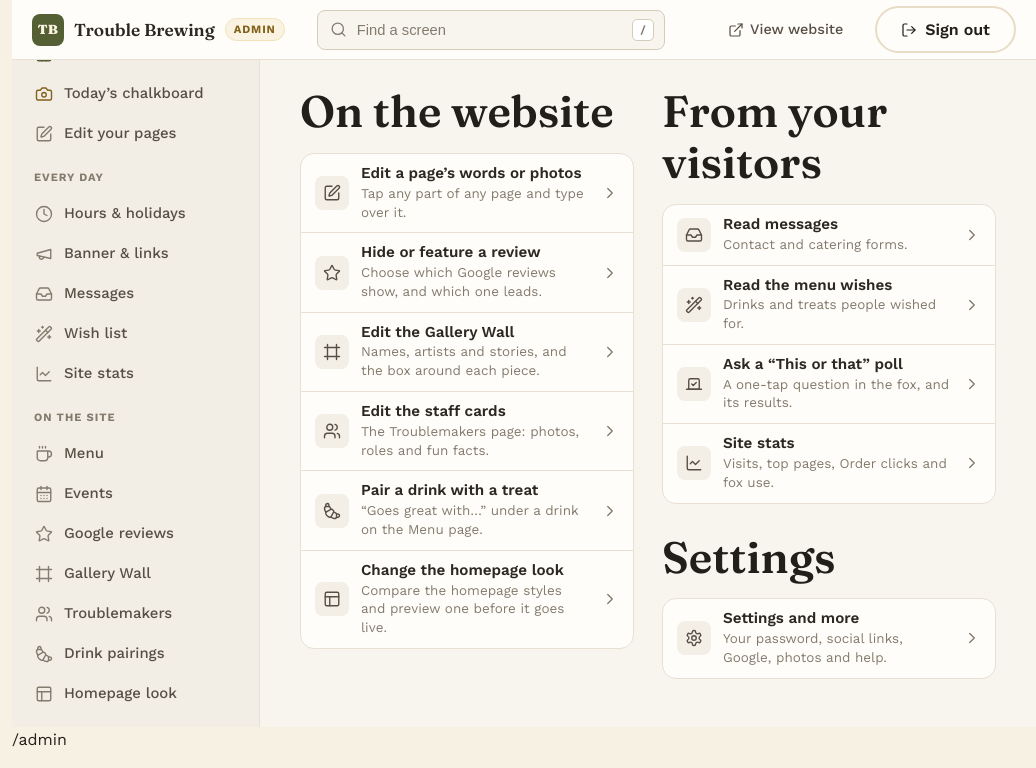
Test: admin home › the "{}" row goes to /admin/troublemakers and says what it changes
(page scrolled)
Click the link "Edit the staff cards" at x=467, y=431, box [301, 392, 633, 470]
(page scrolled)
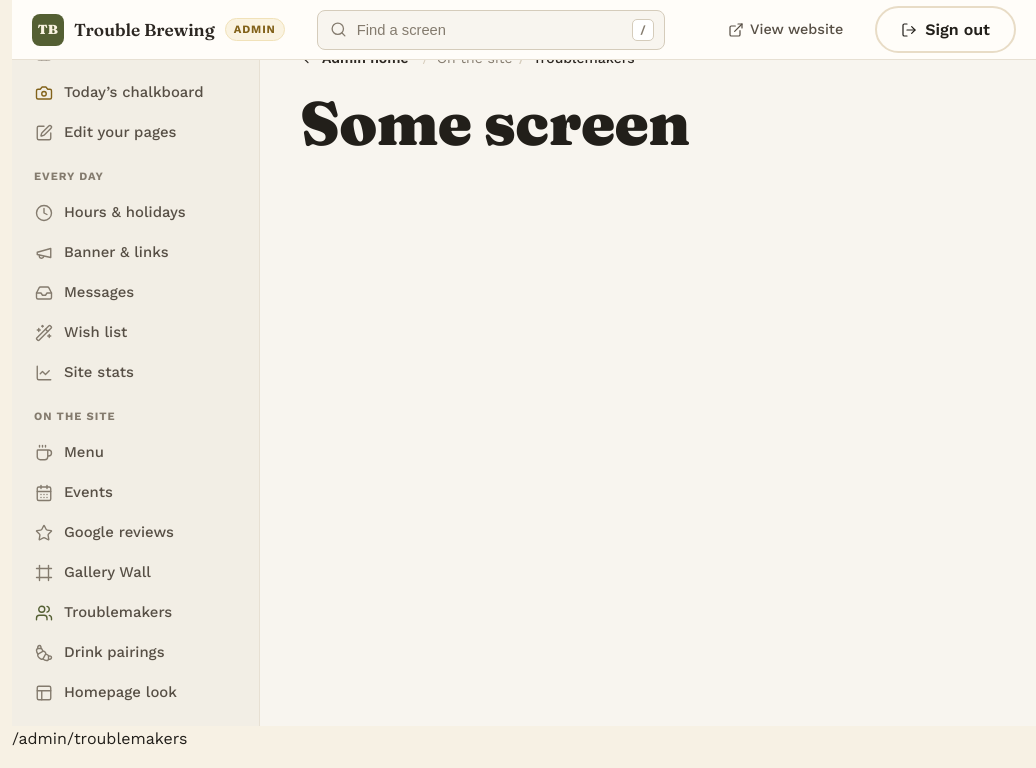
Expected: the text with test id "where" reads "/admin/troublemakers", [12, 729, 188, 748]
